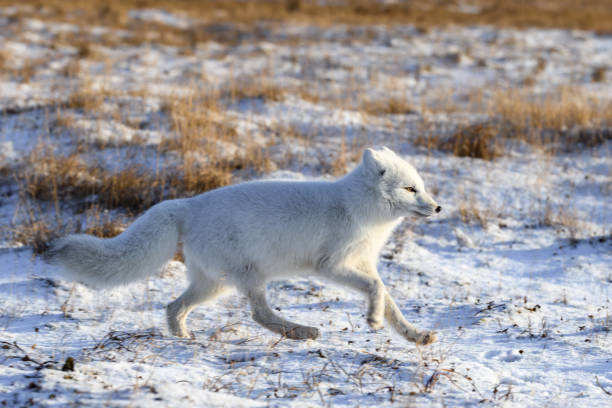arcticfox: (371, 150, 458, 239)
